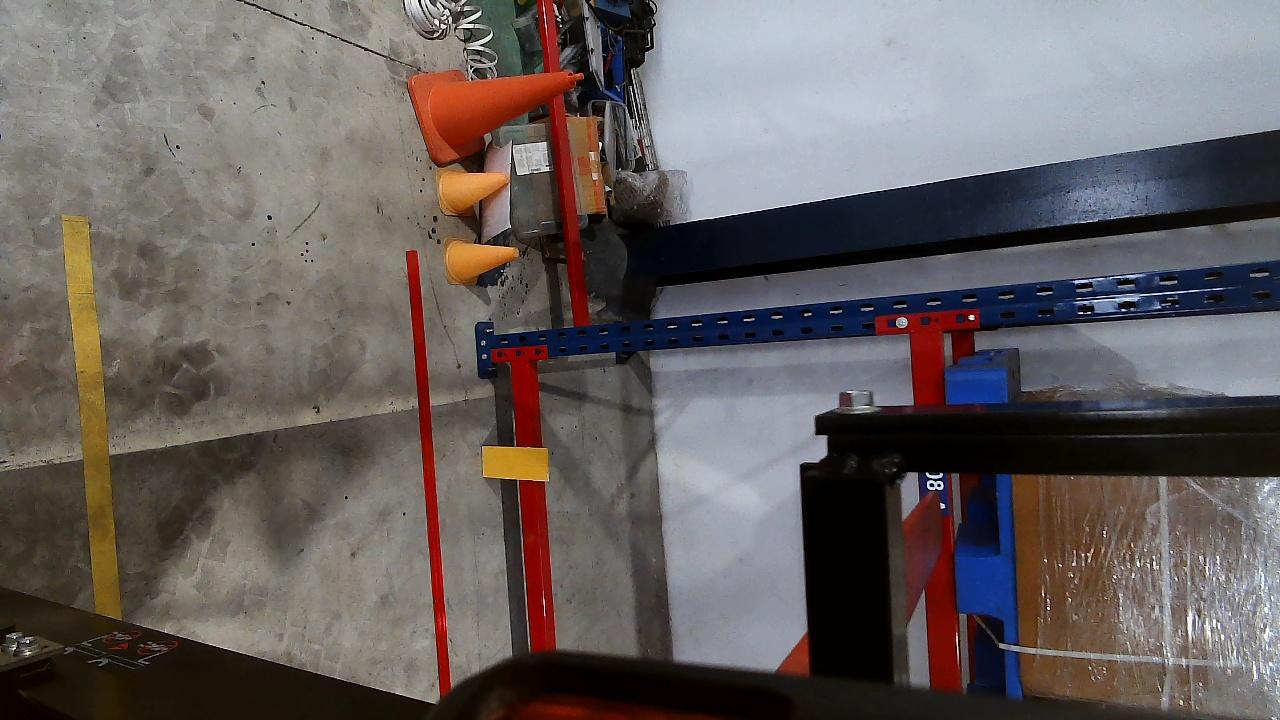h_rack: (509, 358, 555, 651), (910, 329, 947, 689)
orange_strip: (482, 446, 550, 480)
red_line: (407, 250, 452, 682)
small_pallet: (946, 370, 1019, 700)
yellow_line: (58, 215, 119, 619)
